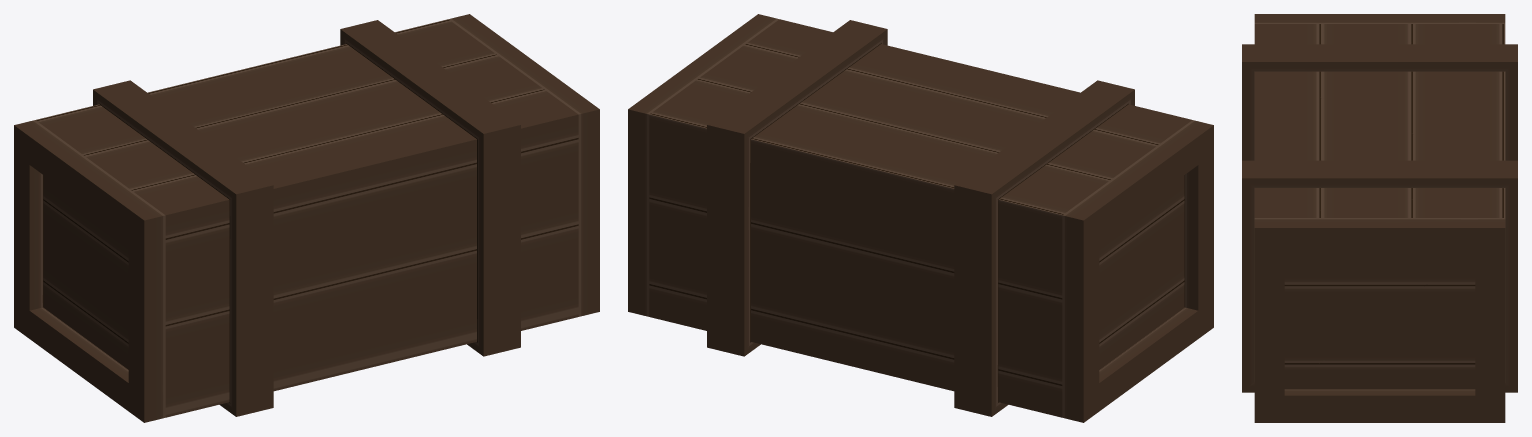
Rendered from SmallCrate.fbx.
The picture shows the model from 3 angles, left to right: view 1: azimuth 30°, elevation 25°; view 2: azimuth 150°, elevation 25°; view 3: azimuth 270°, elevation 25°; orthographic projection. The views are drawn at different scales.
Parts seen in each view (by area): view 1: Smaller crate; view 2: Smaller crate; view 3: Smaller crate.
Boxes of the visible parts, x1,y1,x2,y2 form: Smaller crate: (14, 14, 599, 422); Smaller crate: (628, 14, 1213, 422); Smaller crate: (1242, 14, 1517, 422).
Bounding box in the file's own units: 200 × 93.39 × 109.
